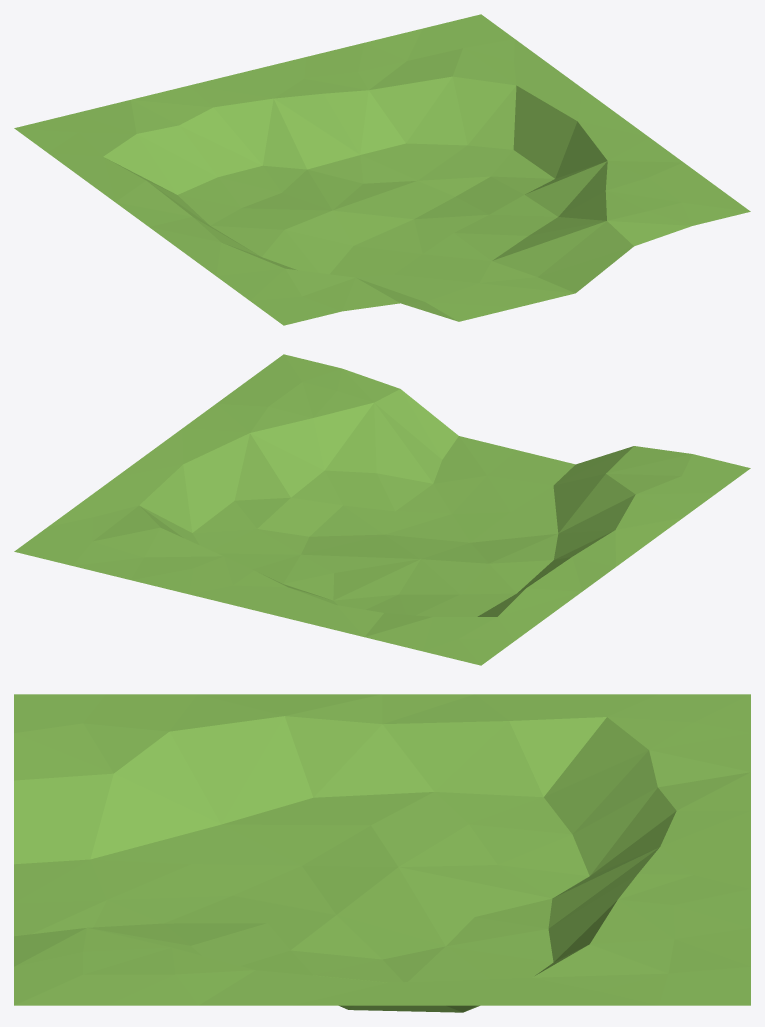
Rendered from MT_River_End_S_a_01_LOD.fbx.
The picture shows the model from 3 angles, top to bottom: view 1: azimuth 30°, elevation 25°; view 2: azimuth 150°, elevation 25°; view 3: azimuth 270°, elevation 25°; orthographic projection. The views are drawn at different scales.
Visible parts, largest first — view 1: MT_River_End_S_a_01_LOD0; view 2: MT_River_End_S_a_01_LOD0; view 3: MT_River_End_S_a_01_LOD0.
Boxes of the visible parts, box(x1,y1,x2,y2) form: MT_River_End_S_a_01_LOD0: box(14, 14, 750, 325); MT_River_End_S_a_01_LOD0: box(14, 354, 750, 665); MT_River_End_S_a_01_LOD0: box(14, 694, 750, 1012).
Size of what is drawn, in the model's own units: 25 by 2.39 by 25.
